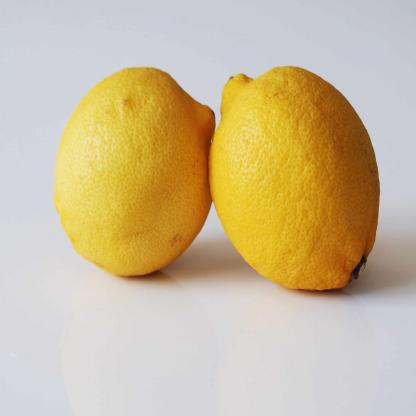lemon: (205, 63, 382, 294), (51, 64, 218, 284)
